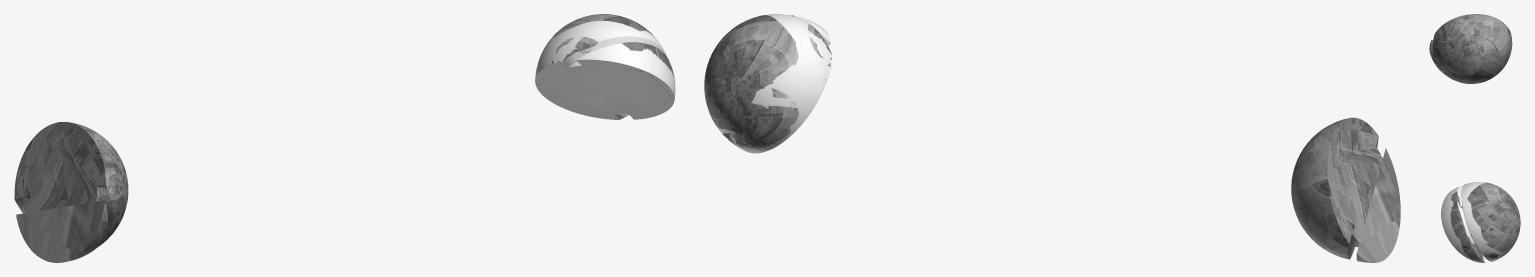
The model's file is Drone166_000030.obj.
3 renders of one model, left to right at view 1: azimuth 30°, elevation 25°; view 2: azimuth 150°, elevation 25°; view 3: azimuth 270°, elevation 25°, orthographic. The views are drawn at different scales.
Parts seen in each view (by area): view 1: Sphere.000_Sphere.002, Sphere.001; view 2: Sphere.001, Sphere.000_Sphere.002; view 3: Sphere.001, Sphere.000_Sphere.002.
Part boxes in pixels (x1,y1,x2,y2): Sphere.000_Sphere.002: (14, 122, 128, 262); Sphere.001: (535, 14, 675, 119); Sphere.001: (704, 14, 831, 153); Sphere.000_Sphere.002: (1291, 117, 1400, 262); Sphere.001: (1441, 182, 1520, 262); Sphere.000_Sphere.002: (1429, 14, 1512, 83).
Size of the model in its own units: 10.64 by 2.29 by 2.22.
Materials: 4 (4 with a texture image).
